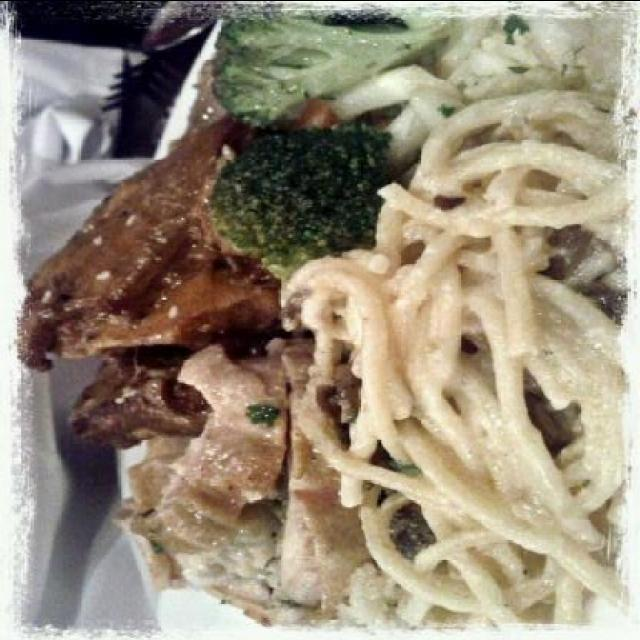Broccoli: (204, 120, 392, 282), (210, 10, 453, 128)
